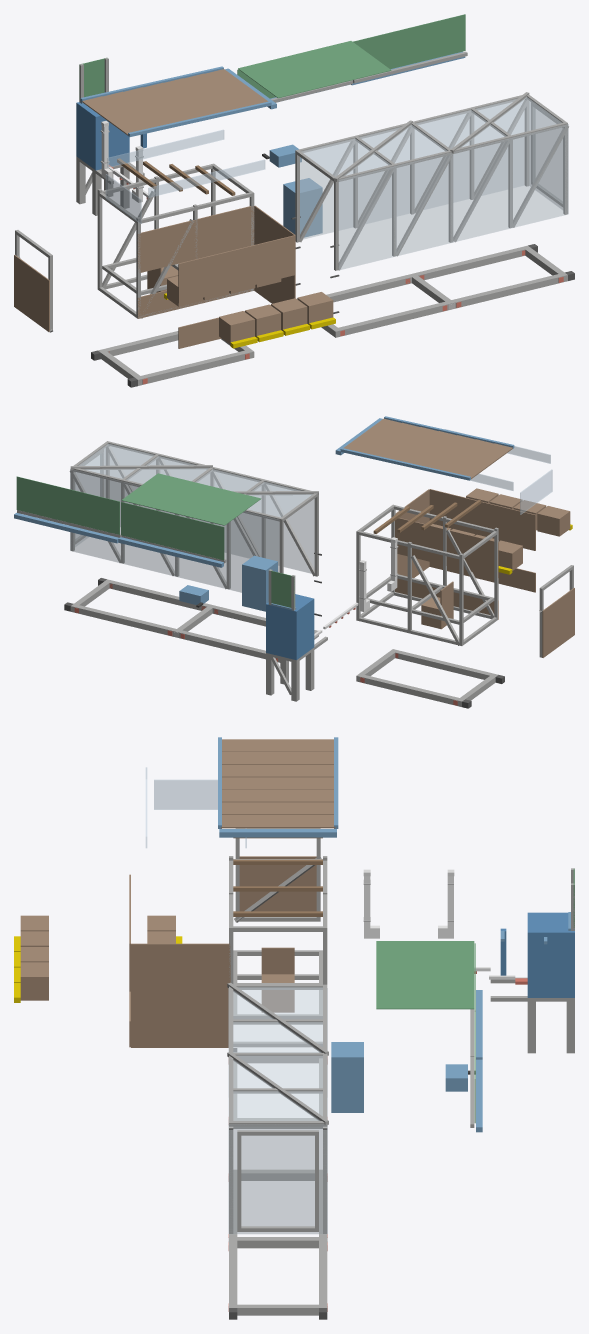
The model's file is gallinero_explosivo.gltf.
3 renders of one model, top to bottom at view 1: azimuth 30°, elevation 25°; view 2: azimuth 150°, elevation 25°; view 3: azimuth 270°, elevation 25°, orthographic. The views are drawn at different scales.
Parts seen in each view (by area): view 1: Corral__malla_gallinero, Corral__gris_plastimadera, Forro__cafe_plastimadera, Niebla__arpilla_verde, Techo__cafe_plastimadera, Estructura__gris_plastimadera, BaseCorral__gris_plastimadera, Nidos__cafe_plastimadera, Ventilación__malla_vent, Base__gris_plastimadera, Agua__tambo_azul, Puertas__cafe_plastimadera (+10 smaller); view 2: Corral__malla_gallinero, Niebla__arpilla_verde, Forro__cafe_plastimadera, Corral__gris_plastimadera, Estructura__gris_plastimadera, Techo__cafe_plastimadera, BaseCorral__gris_plastimadera, Agua__tambo_azul, Nidos__cafe_plastimadera, Base__gris_plastimadera, Puertas__cafe_plastimadera, Agua__gris_plastimadera (+9 smaller); view 3: Corral__malla_gallinero, Forro__cafe_plastimadera, Techo__cafe_plastimadera, Corral__gris_plastimadera, Niebla__arpilla_verde, Puertas__cafe_plastimadera, BaseCorral__gris_plastimadera, Agua__tambo_azul, Estructura__gris_plastimadera, Nidos__cafe_plastimadera, Corral__pvc_azul, Ventilación__malla_vent (+7 smaller).
Boxes of the visible parts, <box> form: Corral__malla_gallinero: <box>300,97,568,270</box>; Corral__gris_plastimadera: <box>295,92,568,270</box>; Forro__cafe_plastimadera: <box>137,205,295,348</box>; Niebla__arpilla_verde: <box>237,14,465,98</box>; Techo__cafe_plastimadera: <box>82,69,268,135</box>; Estructura__gris_plastimadera: <box>97,163,254,318</box>; BaseCorral__gris_plastimadera: <box>321,245,567,337</box>; Nidos__cafe_plastimadera: <box>167,276,333,344</box>; Ventilación__malla_vent: <box>105,129,265,223</box>; Base__gris_plastimadera: <box>98,331,254,385</box>; Agua__tambo_azul: <box>76,102,146,170</box>; Puertas__cafe_plastimadera: <box>14,255,178,331</box>; Corral__malla_gallinero: <box>70,443,314,592</box>; Niebla__arpilla_verde: <box>16,473,261,560</box>; Forro__cafe_plastimadera: <box>395,489,535,619</box>; Corral__gris_plastimadera: <box>69,441,318,589</box>; Estructura__gris_plastimadera: <box>356,504,498,645</box>; Techo__cafe_plastimadera: <box>343,418,512,479</box>; BaseCorral__gris_plastimadera: <box>70,579,318,662</box>; Agua__tambo_azul: <box>266,594,314,660</box>; Nidos__cafe_plastimadera: <box>431,488,570,570</box>; Base__gris_plastimadera: <box>356,649,498,706</box>; Puertas__cafe_plastimadera: <box>421,581,574,657</box>; Agua__gris_plastimadera: <box>266,569,327,701</box>; Corral__malla_gallinero: <box>228,987,327,1234</box>; Forro__cafe_plastimadera: <box>129,874,230,1047</box>; Techo__cafe_plastimadera: <box>221,739,335,828</box>; Corral__gris_plastimadera: <box>227,982,328,1233</box>; Niebla__arpilla_verde: <box>376,941,475,1123</box>; Puertas__cafe_plastimadera: <box>239,856,316,1012</box>; BaseCorral__gris_plastimadera: <box>229,1169,327,1315</box>; Agua__tambo_azul: <box>500,912,574,997</box>; Estructura__gris_plastimadera: <box>229,856,327,1047</box>; Nidos__cafe_plastimadera: <box>20,915,175,1000</box>; Corral__pvc_azul: <box>331,1042,363,1112</box>; Ventilación__malla_vent: <box>145,767,246,848</box>.
Size of the model in its own units: 9.01 by 4.25 by 6.86.
